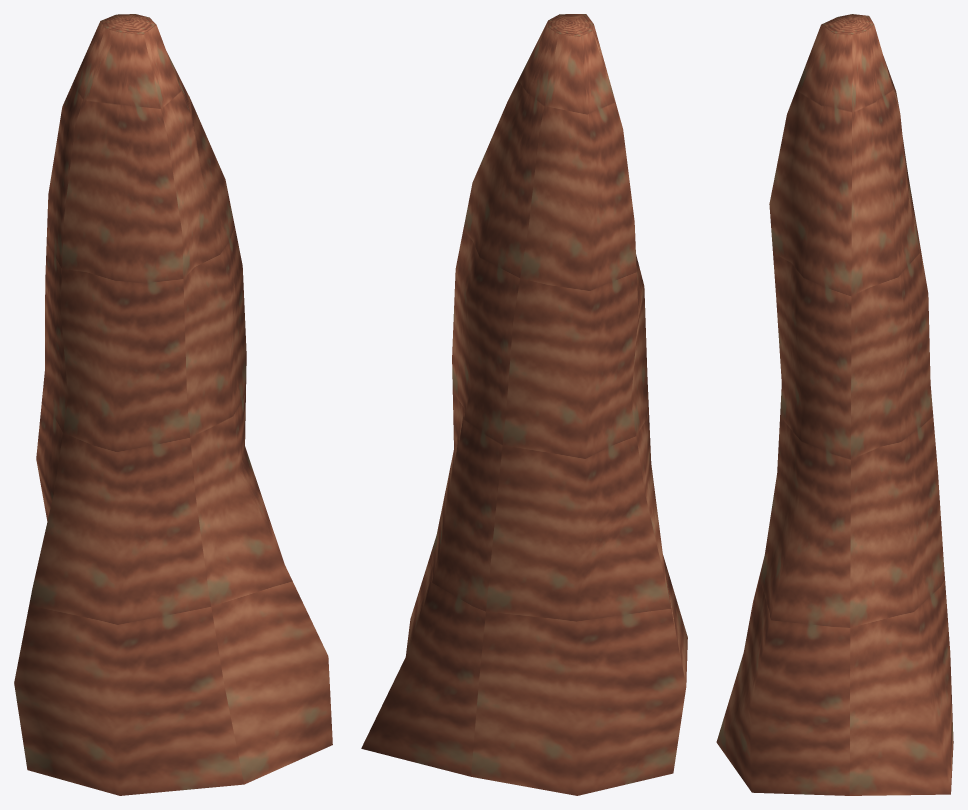
File: Rock_Spire_1_LOD2.gltf
3 renders of one model, left to right at view 1: azimuth 30°, elevation 25°; view 2: azimuth 150°, elevation 25°; view 3: azimuth 270°, elevation 25°, orthographic. The views are drawn at different scales.
Parts seen in each view (by area): view 1: Rock_Spire_1_LOD2; view 2: Rock_Spire_1_LOD2; view 3: Rock_Spire_1_LOD2.
Part boxes in pixels (<box>): Rock_Spire_1_LOD2: <box>14,14,332,795</box>; Rock_Spire_1_LOD2: <box>361,14,687,795</box>; Rock_Spire_1_LOD2: <box>716,14,953,795</box>.
Bounding box in the file's own units: 10.61 × 26.71 × 8.21.
1 material, 1 textured.
